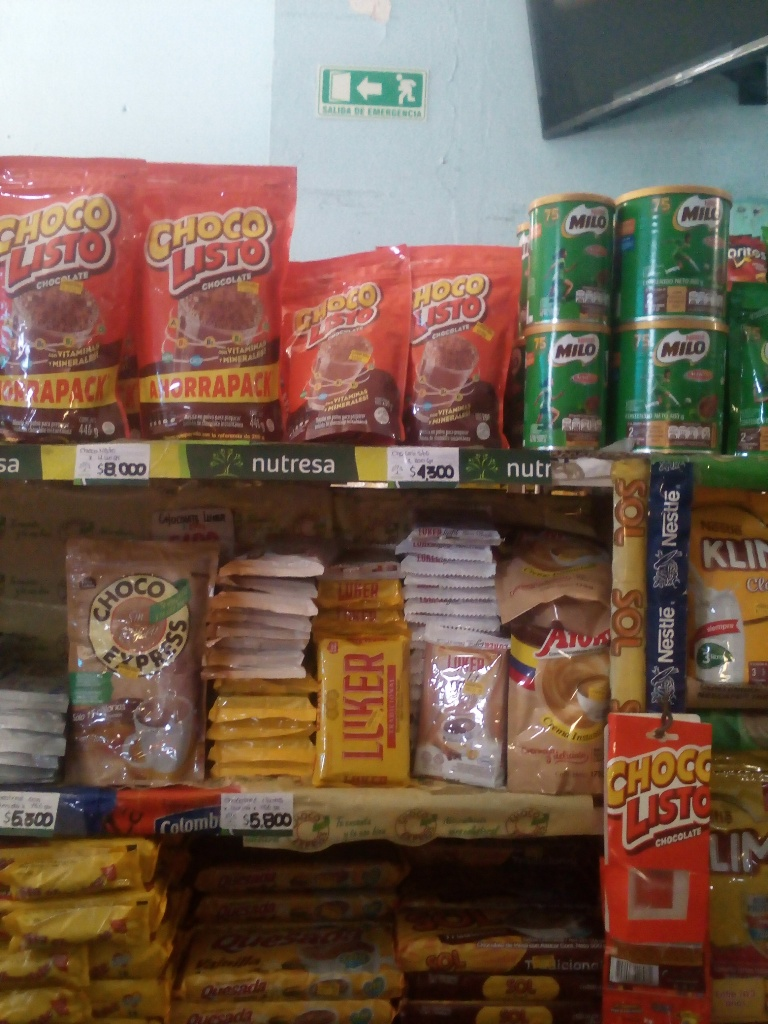COL0170203LAT20000: (520, 196, 622, 324)
